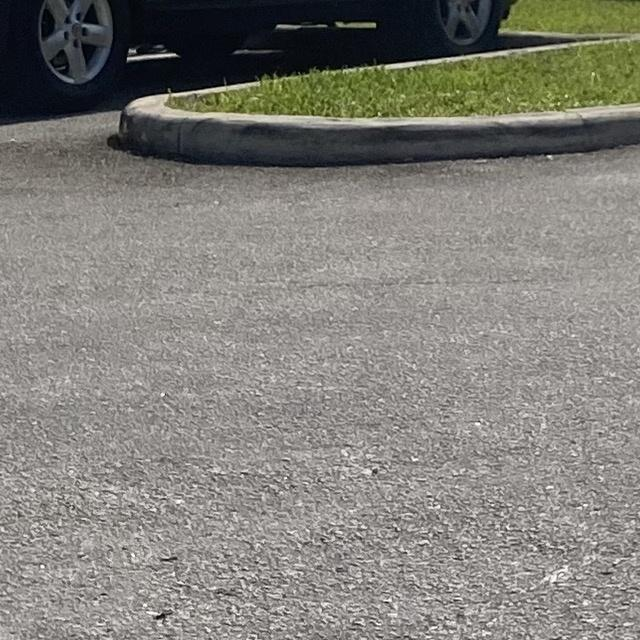curb: (119, 95, 639, 164), (342, 35, 639, 70), (494, 31, 638, 46), (162, 82, 259, 99)
